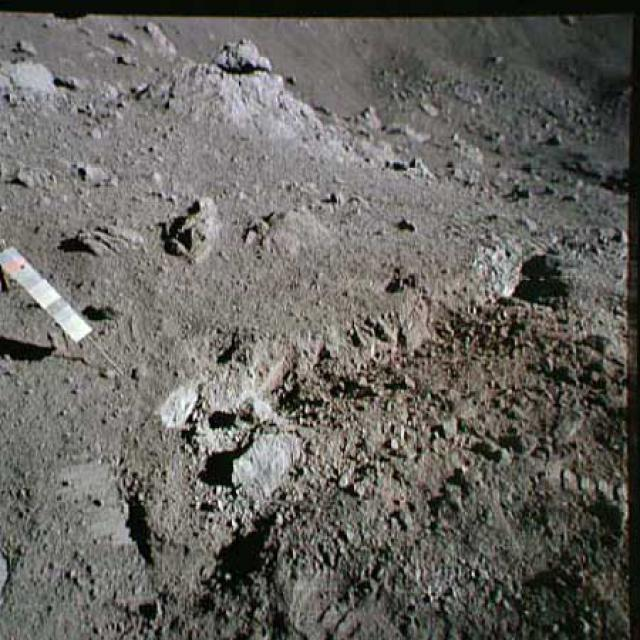artifact: (0, 241, 125, 394)
rock: (140, 26, 438, 190), (164, 351, 300, 511), (236, 201, 328, 262), (157, 192, 229, 268), (0, 49, 62, 117)
